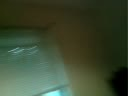window: (39, 3, 50, 39), (52, 6, 62, 42), (71, 9, 78, 41), (79, 12, 86, 41)
